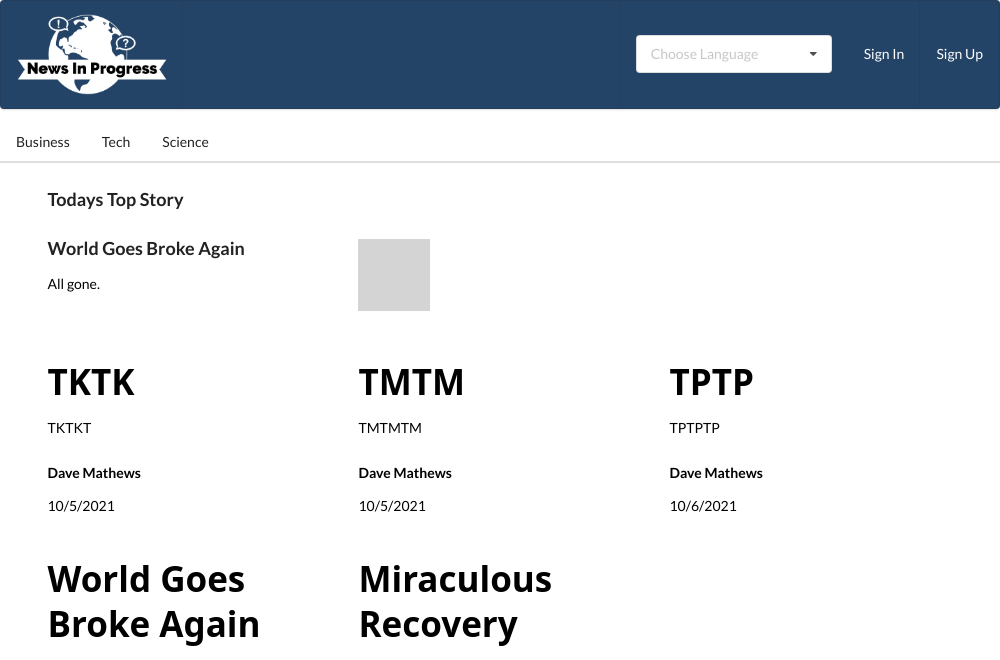
Test: User can register for an account › when the registration is unsuccessful › is expected to return an error message if the passwords don't match
Step 1. Click the link with test id "sign-up-button" → (960, 55), box [920, 1, 999, 108]
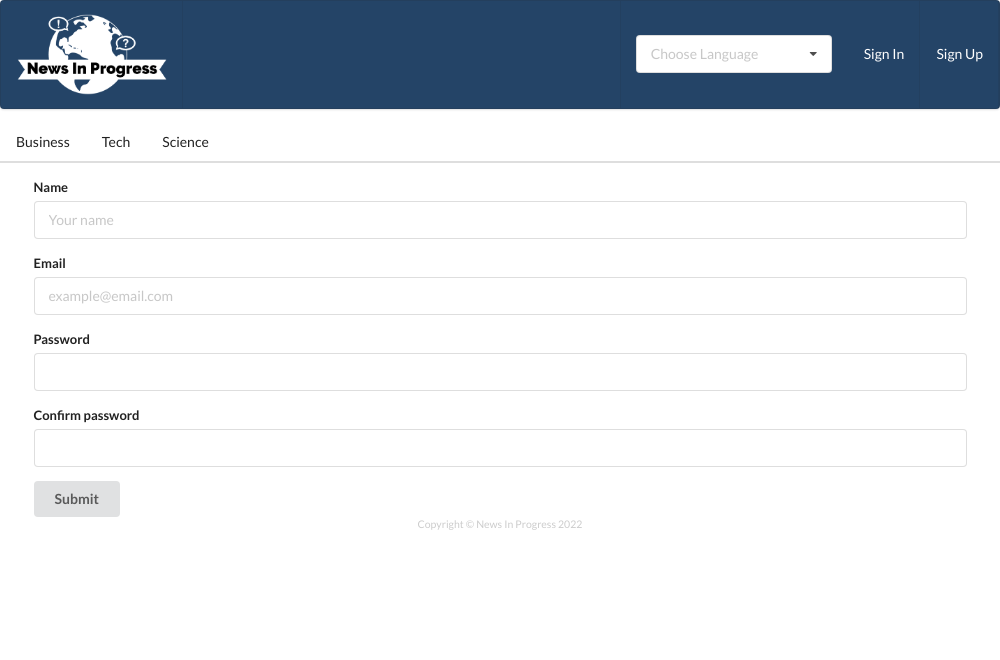
Step 2. Type "foobar" into the element with test id "name-input" → (501, 220), box [34, 201, 967, 239]
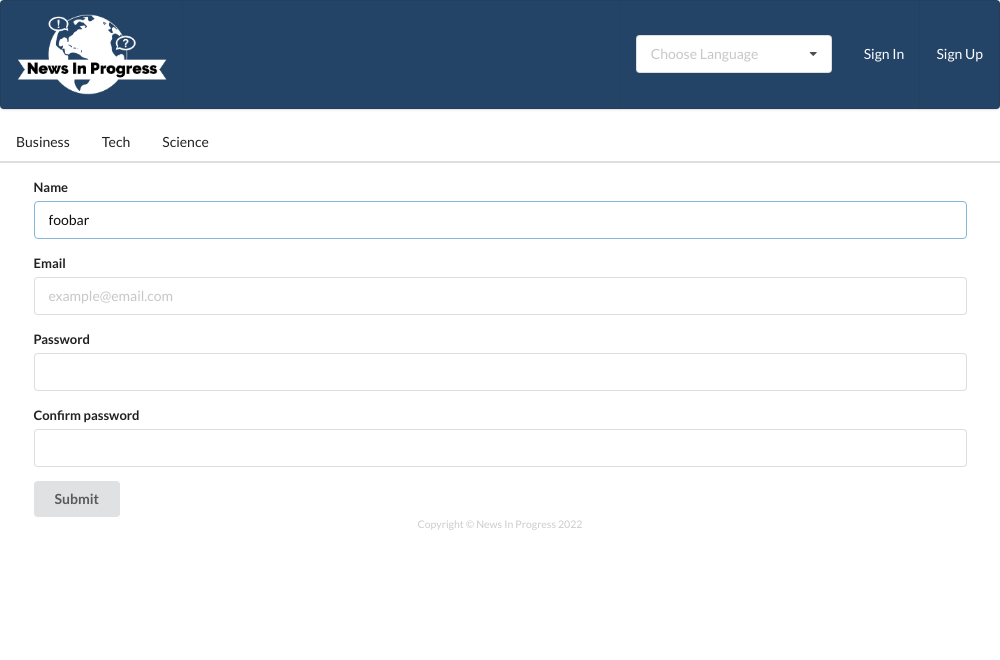
Step 3. Type "user@email.com" into the element with test id "email-input" → (501, 296), box [34, 277, 967, 315]
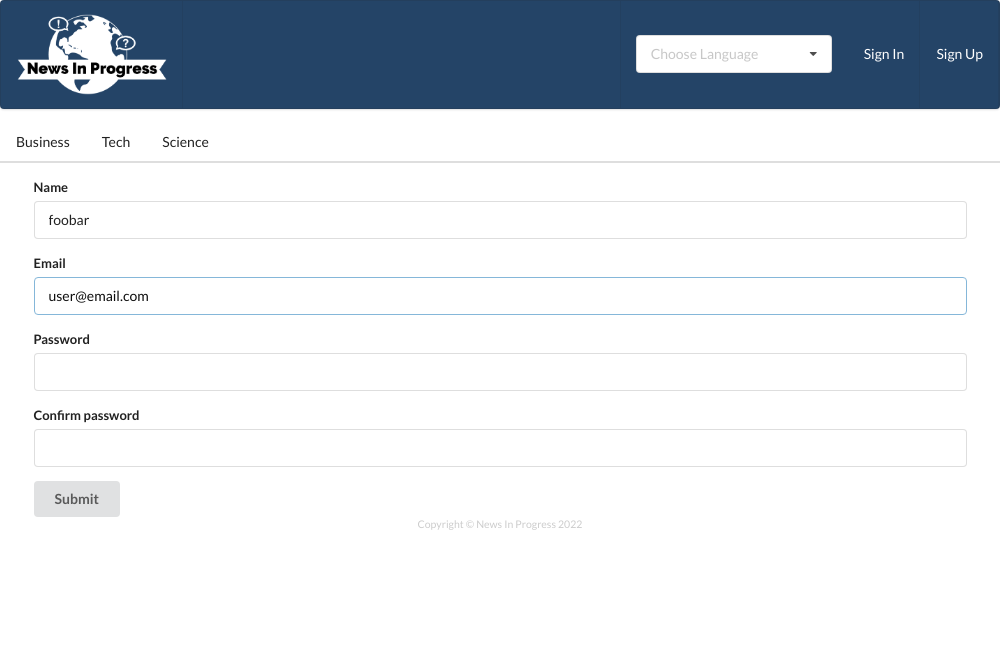
Step 4. Type "password" into the element with test id "password-input" → (501, 372), box [34, 353, 967, 391]
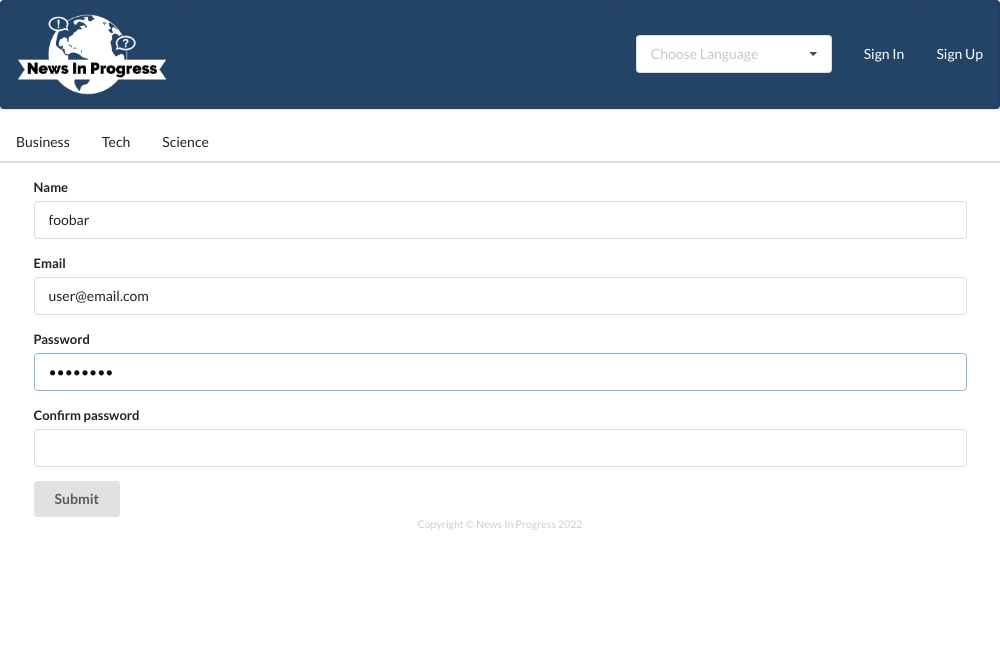
Step 5. Type "not_the_same_password" into the element with test id "confirm-password-input" → (501, 448), box [34, 429, 967, 467]
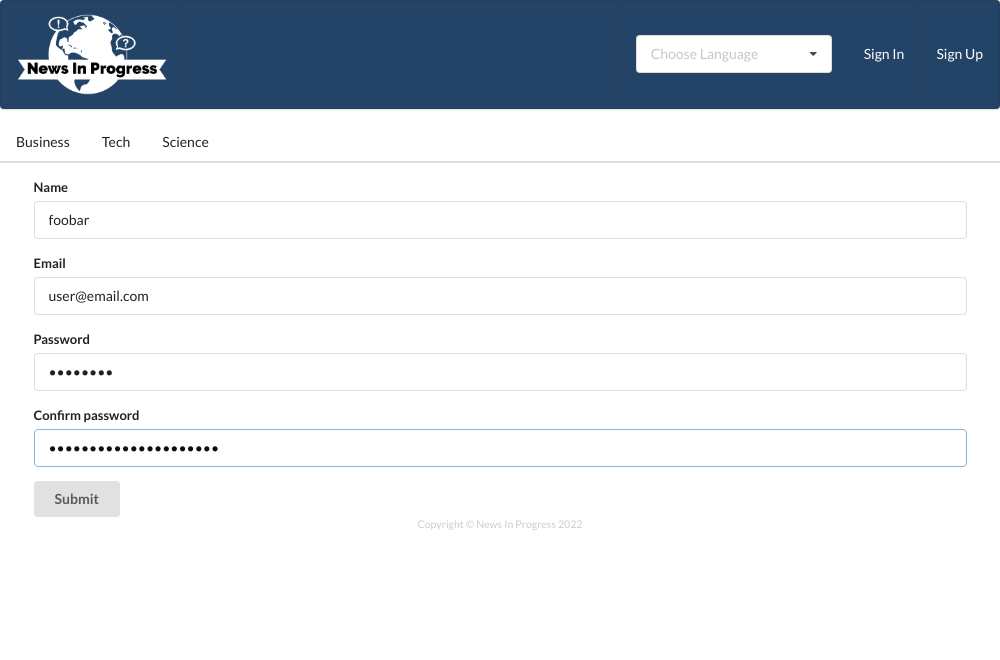
Step 6. Click the button with test id "btn-signup" → (78, 499), box [34, 481, 121, 517]
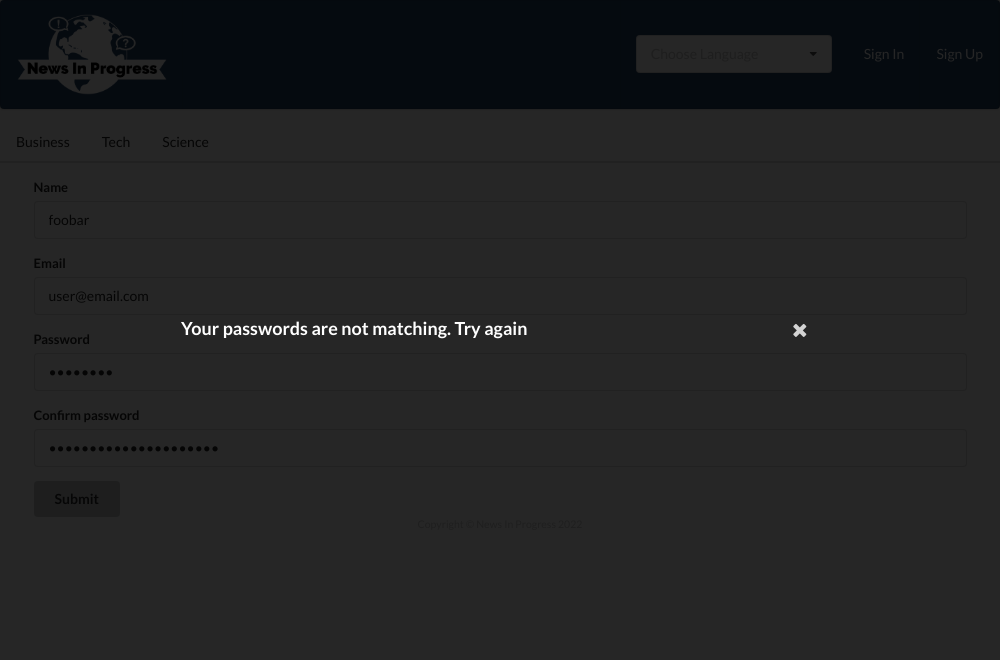
Expected: the text with test id "registration-message" reads "Your passwords are not matching. Try again", [181, 317, 528, 339]
